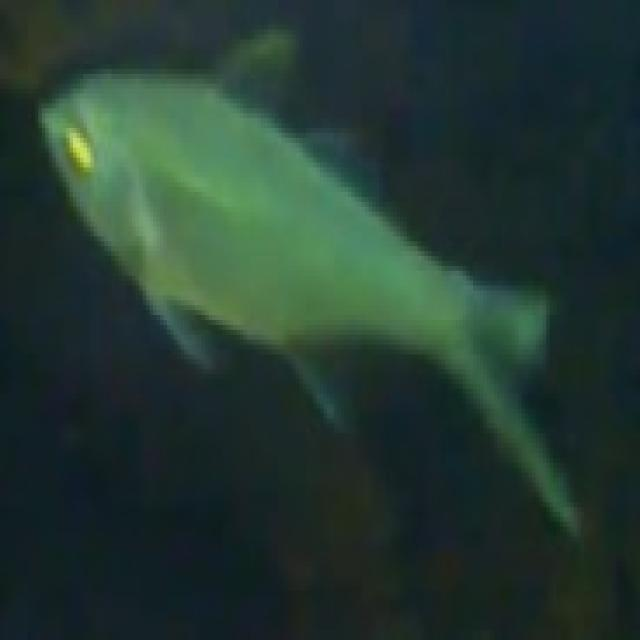Glass-Perchlet: (24, 15, 576, 569)
